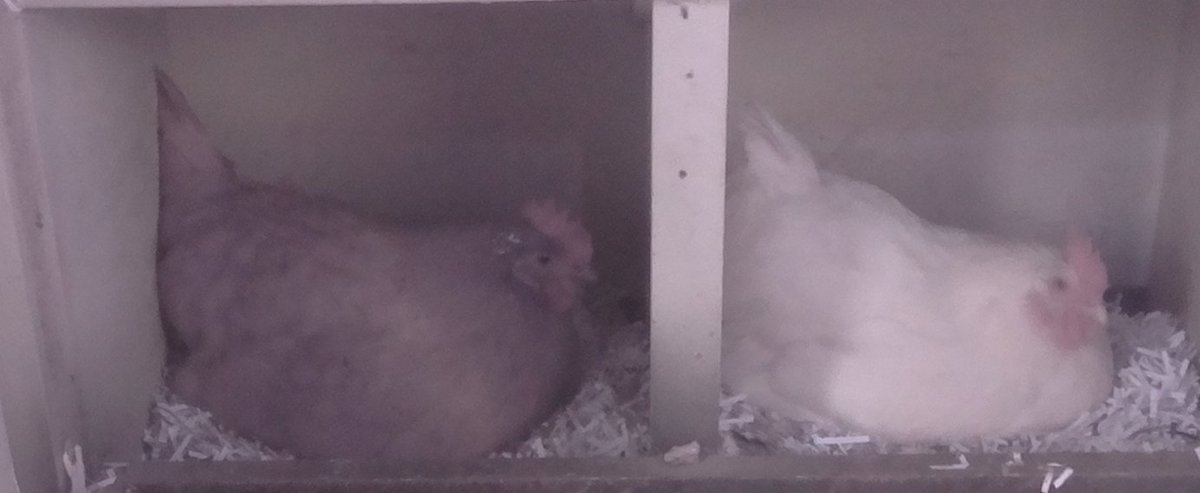hen: (151, 170, 604, 461), (727, 206, 1126, 439)
